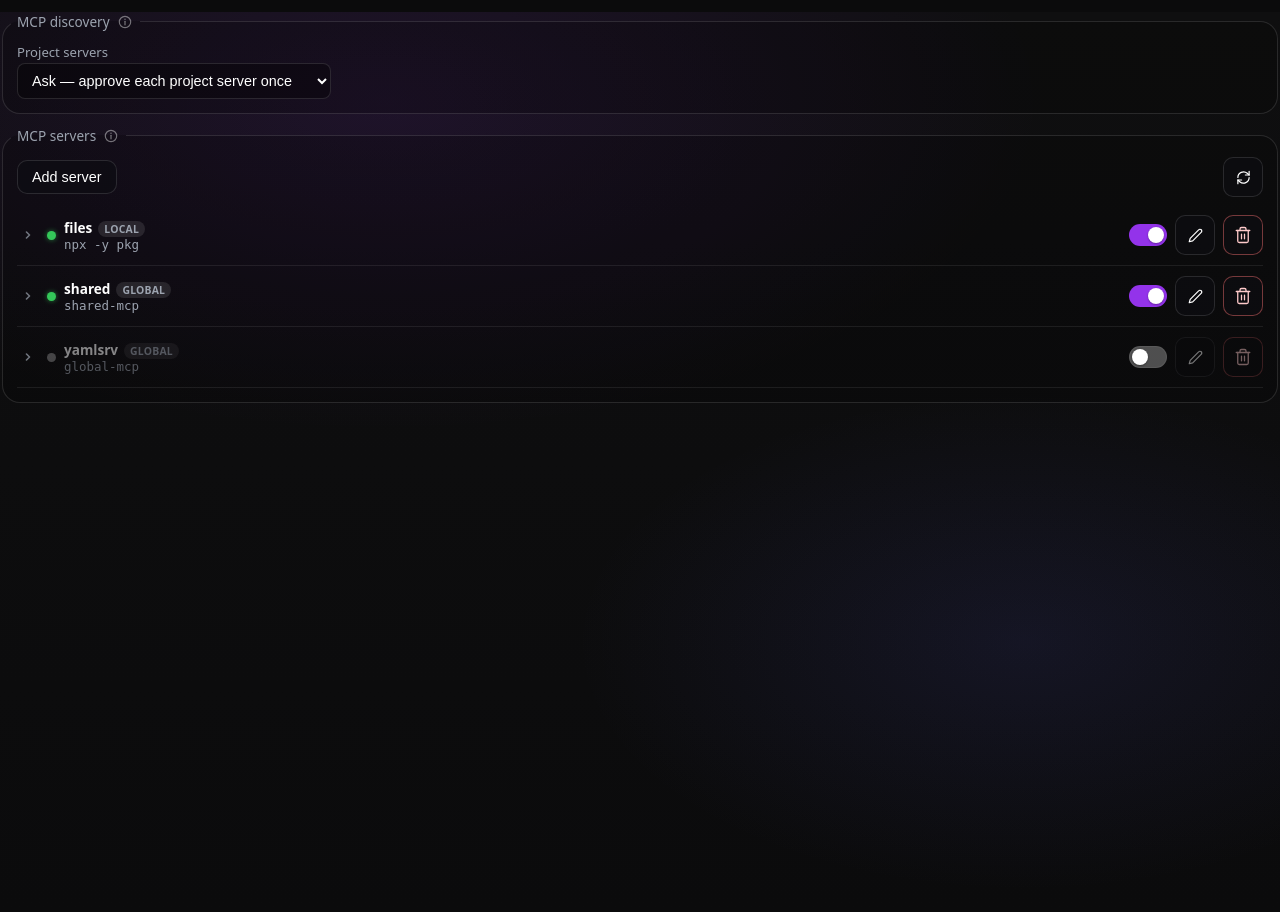
Add server opens the JSON editor prefilled with the template
This screenshot has width=1280, height=912.
Expected: the list with test id "mcp-list" is shown, 17,205 -> 1263,388
Click the button with test id "mcp-add-server" at {"x": 67, "y": 177}, box 17,160 -> 117,194
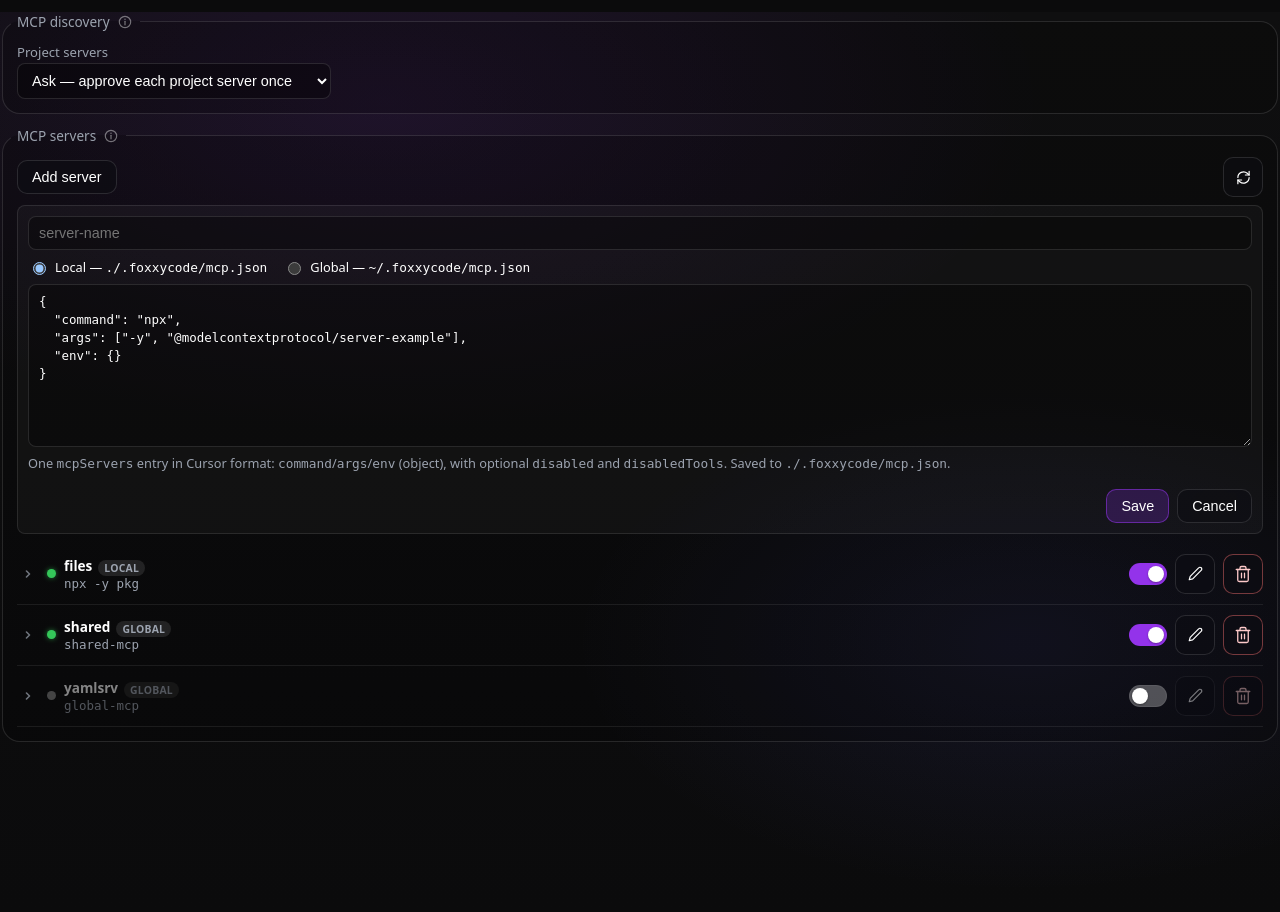
Now the element with test id "mcp-editor" is shown, box 17,205 -> 1263,534
Now the radio button with test id "mcp-editor-scope-local" is checked, box 33,262 -> 46,275
Note: An invalid name is rejected client-side before any request.
Type "bad__name" into the field with test id "mcp-editor-name" at {"x": 640, "y": 233}, box 28,216 -> 1252,250
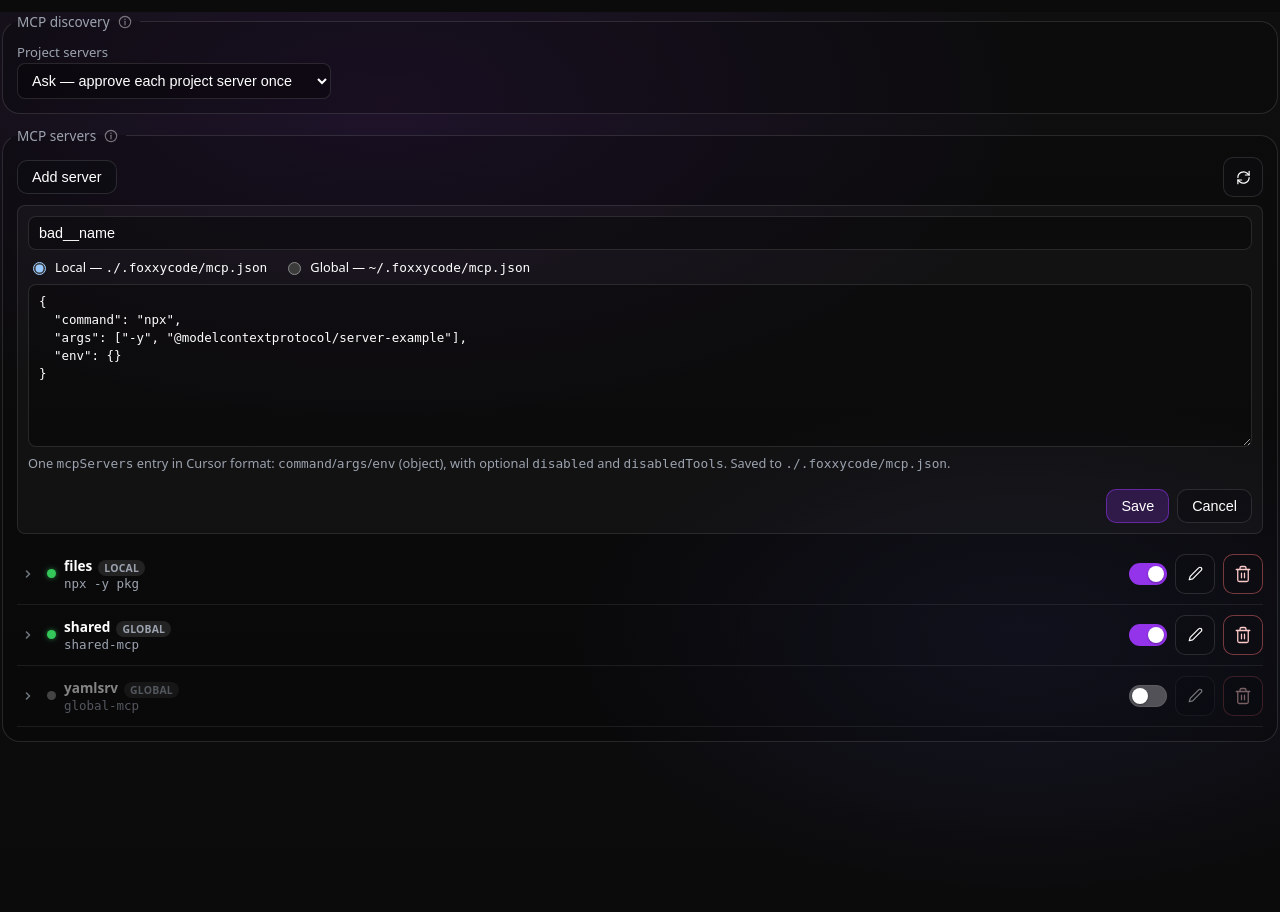
Click the button with test id "mcp-editor-save" at {"x": 1138, "y": 506}, box 1106,488 -> 1169,522
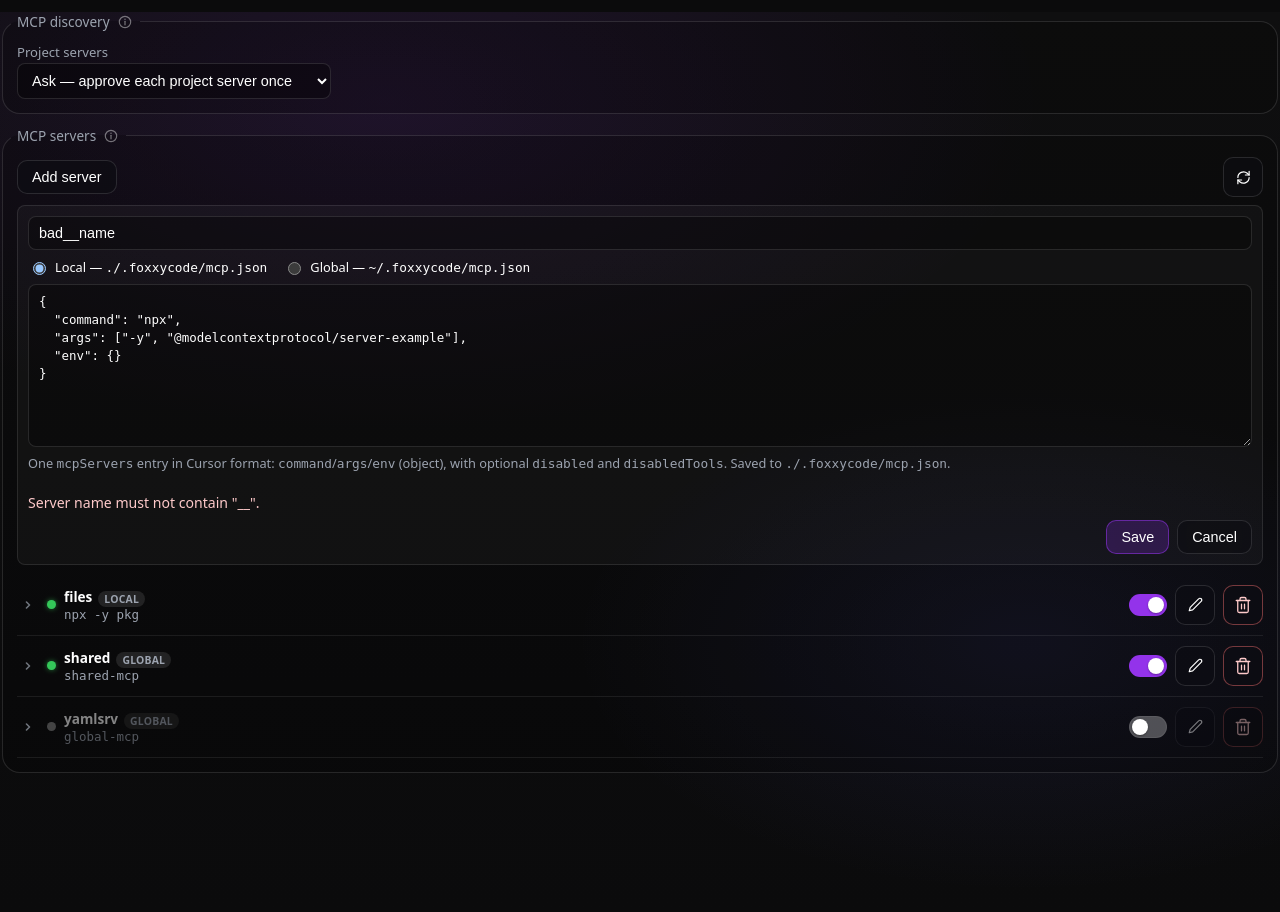
Now the text with class "settings-error" shows "__", box 28,492 -> 259,512
